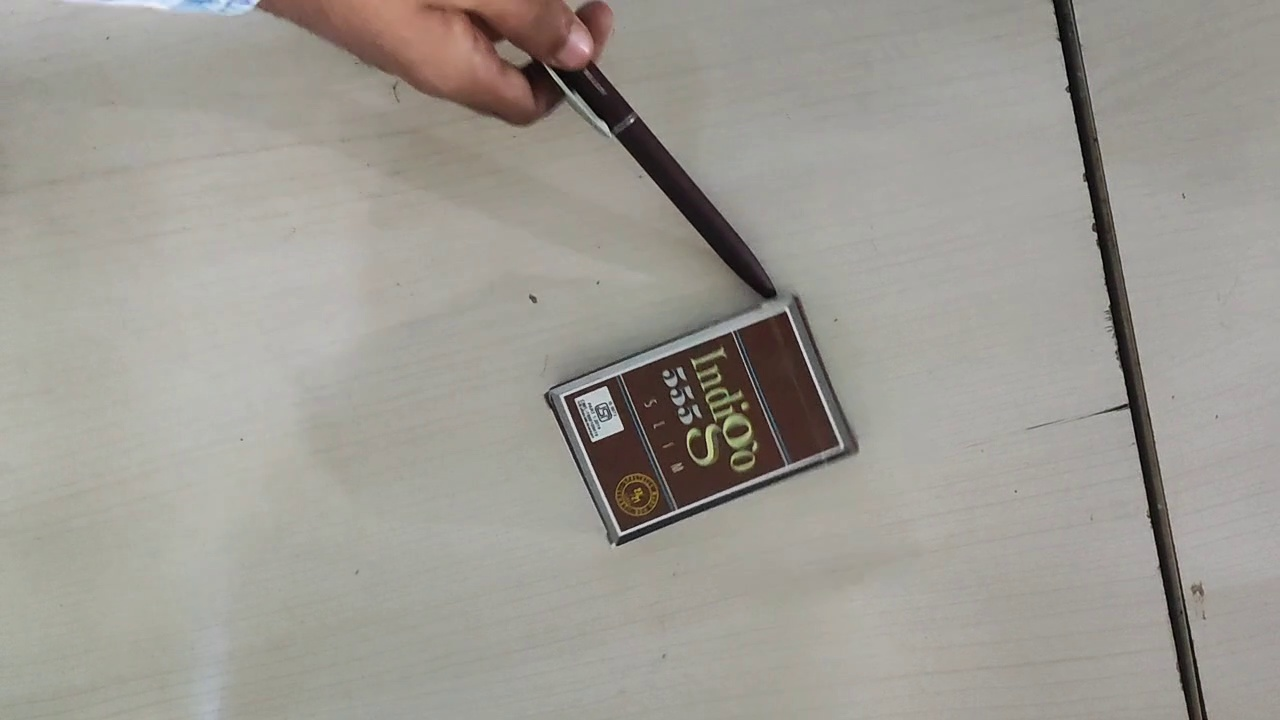BEX: (560, 307, 842, 530)
